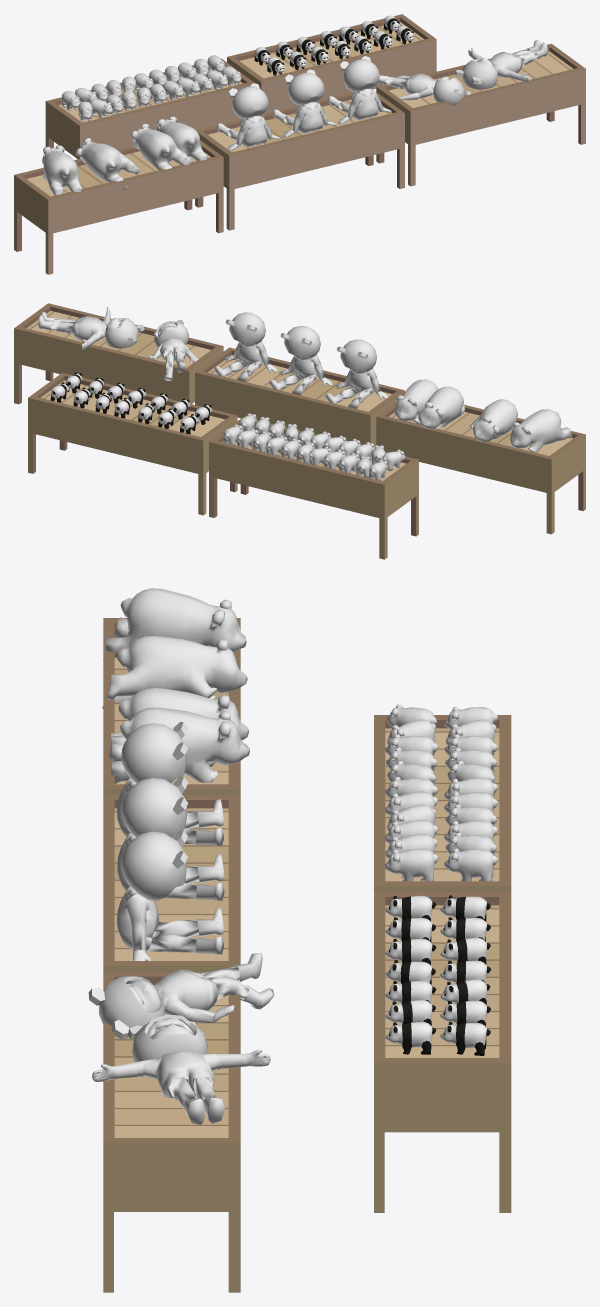
The model's file is MejaBoneka.fbx.
3 views of the same model, one above another, from view 1: azimuth 30°, elevation 25°; view 2: azimuth 150°, elevation 25°; view 3: azimuth 270°, elevation 25° (orthographic). The views are drawn at different scales.
Parts seen in each view (by area): view 1: MejaBoneka.003, MejaBoneka.002, MejaBoneka.004, MejaBoneka.001, MejaBoneka.005, Panda.032, Panda.034, Panda.031, Zookeper.005, Panda.033, Zookeper.003, Zookeper.006 (+7 smaller); view 2: MejaBoneka.001, MejaBoneka.003, MejaBoneka.005, MejaBoneka.004, MejaBoneka.002, Panda.031, Zookeper.005, Panda.034, Panda.032, Zookeper.006, Zookeper.003, Zookeper.001 (+7 smaller); view 3: MejaBoneka.001, MejaBoneka.004, MejaBoneka.002, MejaBoneka.005, Panda.032, Zookeper.005, Panda.031, Zookeper.004, Panda.033, Zookeper.006, MejaBoneka.003, Cube.005 (+23 smaller).
Boxes of the visible parts, x1,y1,x2,y2 form: MejaBoneka.003: (14, 140, 223, 274); MejaBoneka.002: (195, 88, 404, 230); MejaBoneka.004: (376, 43, 585, 186); MejaBoneka.001: (227, 14, 436, 114); MejaBoneka.005: (45, 58, 255, 159); Panda.032: (75, 138, 139, 189); Panda.034: (130, 123, 190, 169); Panda.031: (42, 145, 81, 198); Zookeper.005: (468, 40, 547, 82); Panda.033: (156, 116, 207, 165); Zookeper.003: (272, 102, 336, 137); Zookeper.006: (327, 88, 391, 124); MejaBoneka.001: (28, 372, 237, 515); MejaBoneka.003: (376, 402, 585, 534); MejaBoneka.005: (209, 417, 418, 559); MejaBoneka.004: (14, 303, 223, 404); MejaBoneka.002: (195, 347, 404, 446); Panda.031: (510, 409, 572, 452); Zookeper.005: (38, 307, 125, 349); Panda.034: (418, 386, 465, 428); Panda.032: (469, 399, 517, 441); Zookeper.006: (214, 341, 277, 381); Zookeper.003: (269, 354, 332, 395); Zookeper.001: (325, 368, 388, 408); MejaBoneka.001: (374, 892, 511, 1212); MejaBoneka.004: (103, 971, 240, 1292); MejaBoneka.002: (103, 795, 240, 971); MejaBoneka.005: (374, 715, 511, 891); Panda.032: (102, 636, 247, 708); Zookeper.005: (92, 1019, 270, 1124); Panda.031: (103, 588, 246, 660); Zookeper.004: (127, 953, 274, 1022); Panda.033: (108, 707, 249, 783); Zookeper.006: (116, 886, 223, 960); MejaBoneka.003: (103, 618, 240, 794); Cube.005: (121, 830, 187, 901).
Bounding box in the file's own units: 1514 × 337 × 515.
